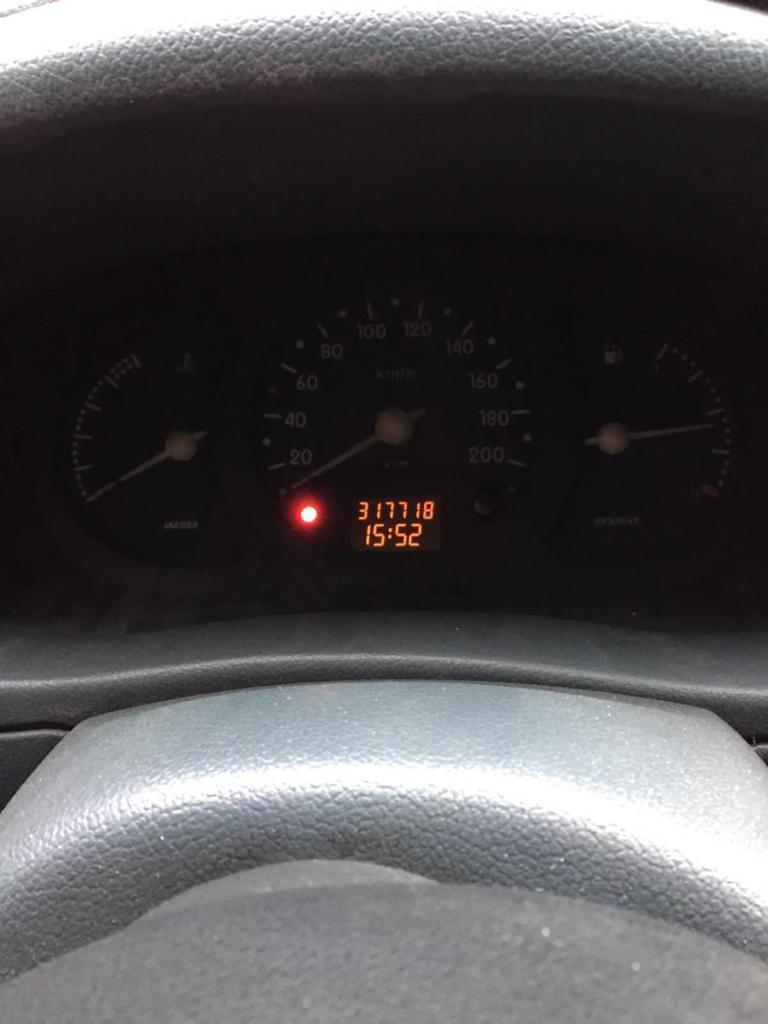1: (371, 500, 382, 519), (363, 523, 370, 547), (413, 499, 421, 519)
2: (406, 522, 422, 548)
3: (356, 499, 368, 521)
5: (372, 522, 385, 547), (394, 522, 406, 549)
7: (383, 499, 395, 519), (397, 499, 408, 519)
8: (423, 499, 434, 521)
X: (387, 525, 393, 541)
odometer: (335, 487, 449, 557)
